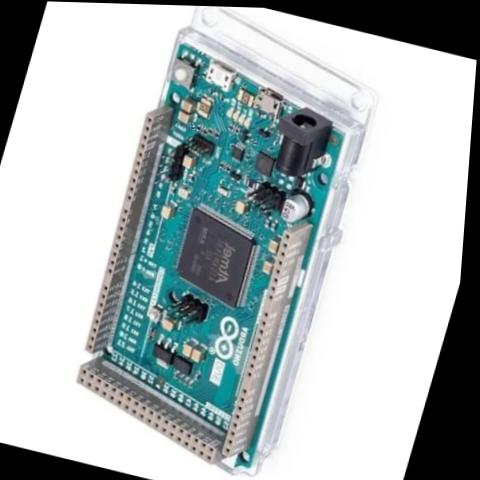Arduino-Due: (47, 24, 373, 480)
